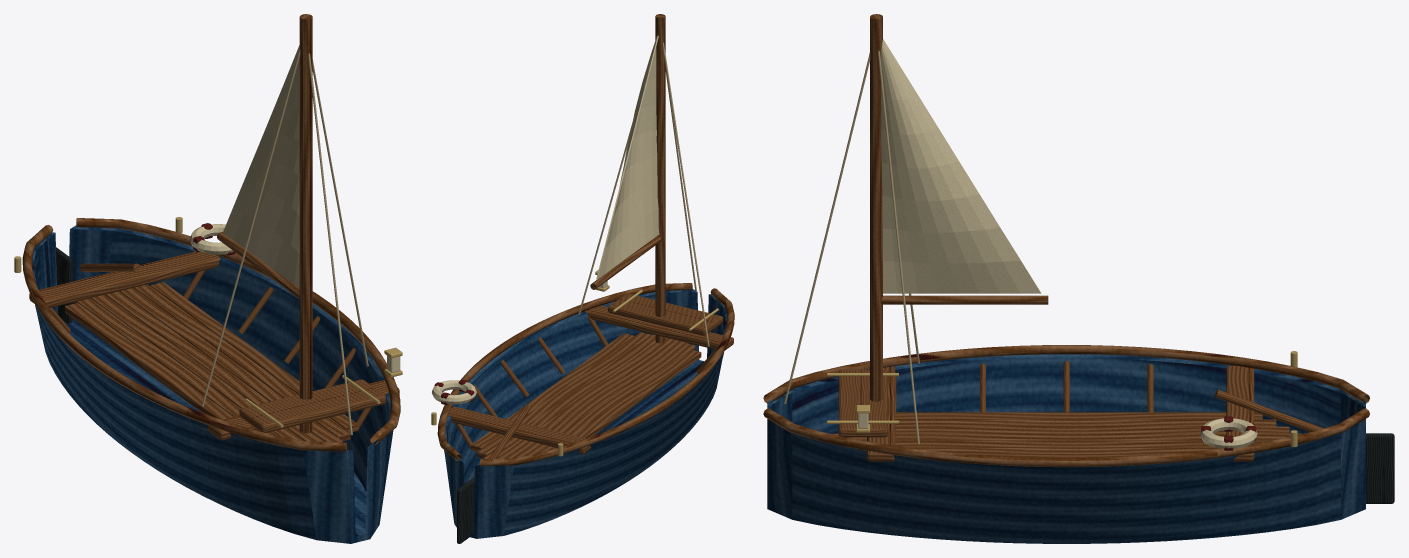
The model's file is SM_SailCutter.glb.
3 renders of one model, left to right at view 1: azimuth 30°, elevation 25°; view 2: azimuth 150°, elevation 25°; view 3: azimuth 270°, elevation 25°, orthographic. The views are drawn at different scales.
Parts seen in each view (by area): view 1: SM_SailCutter; view 2: SM_SailCutter; view 3: SM_SailCutter.
Part boxes in pixels (left/top/right/bottom): SM_SailCutter: left=14, top=14, right=402, bottom=543; SM_SailCutter: left=431, top=14, right=734, bottom=543; SM_SailCutter: left=763, top=14, right=1394, bottom=543.
Size of the model in its own units: 1.97 by 3.82 by 4.48.
Materials: 7 (5 with a texture image).
